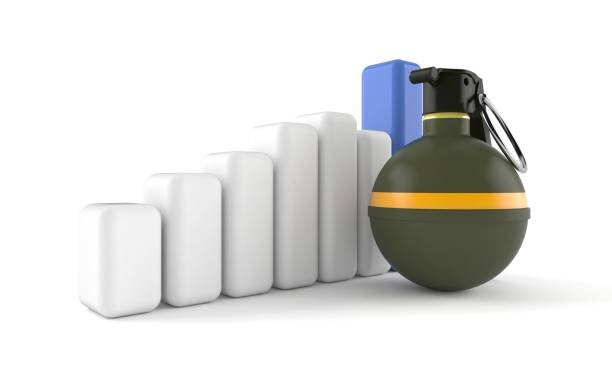e1: (365, 64, 535, 293)
